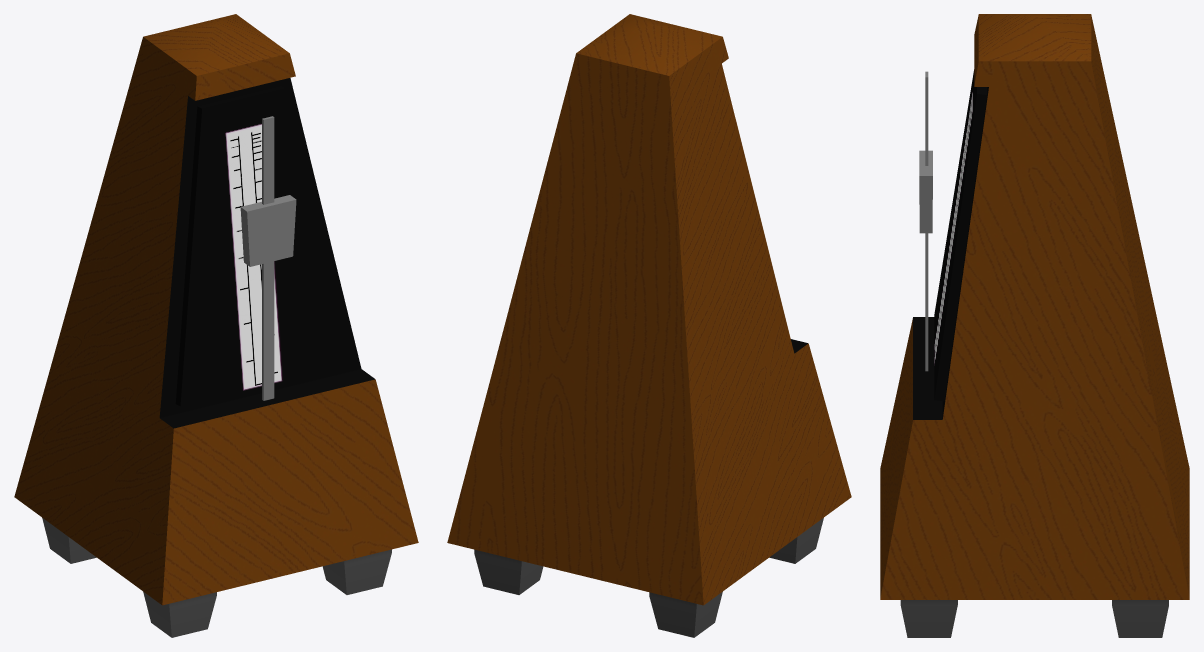
File: TexturedMetronome.fbx
3 views of the same model, side by side, from view 1: azimuth 30°, elevation 25°; view 2: azimuth 150°, elevation 25°; view 3: azimuth 270°, elevation 25° (orthographic). The views are drawn at different scales.
Visible parts, largest first — view 1: Base, Weight, Arm, Leg3, Leg2, Leg1; view 2: Base, Leg1, Leg, Leg3; view 3: Base, Leg2, Leg, Weight, Arm.
Boxes of the visible parts, box(x1,y1,x2,y2) form: Base: box(14, 14, 418, 605); Weight: box(240, 195, 296, 266); Arm: box(262, 116, 274, 400); Leg3: box(143, 591, 216, 637); Leg2: box(322, 549, 391, 594); Leg1: box(42, 517, 96, 563); Base: box(447, 14, 851, 605); Leg1: box(649, 591, 722, 637); Leg: box(474, 549, 543, 594); Leg3: box(769, 518, 823, 563); Base: box(880, 14, 1189, 599); Leg2: box(900, 600, 957, 637); Leg: box(1112, 600, 1168, 637); Weight: box(919, 150, 932, 233); Arm: box(925, 71, 928, 371).
Size of the model in its own units: 0.4772 by 0.9664 by 0.4772.
1 material, 1 textured.
